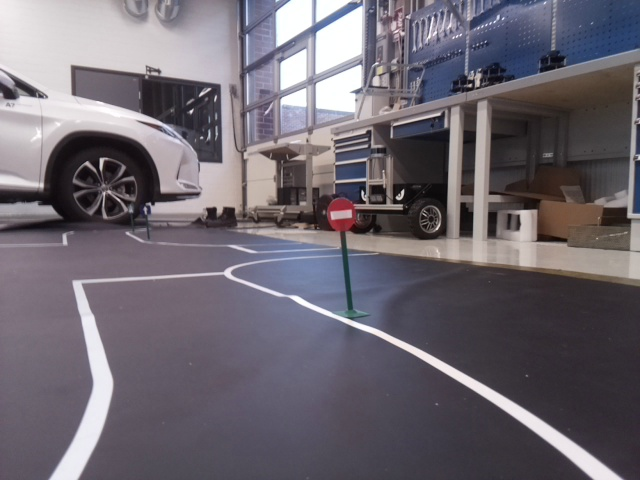NoEntry: (138, 204, 151, 216)
OneWay: (325, 197, 356, 230)
